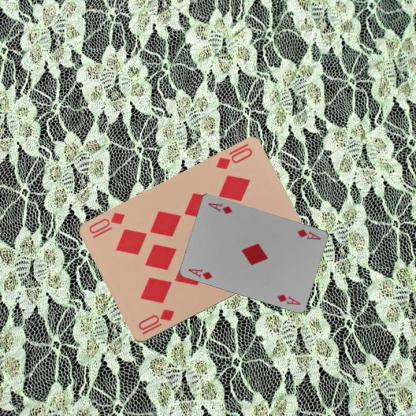10d: (135, 307, 176, 336), (212, 145, 254, 172)
Ad: (186, 266, 214, 281), (295, 226, 322, 241)
